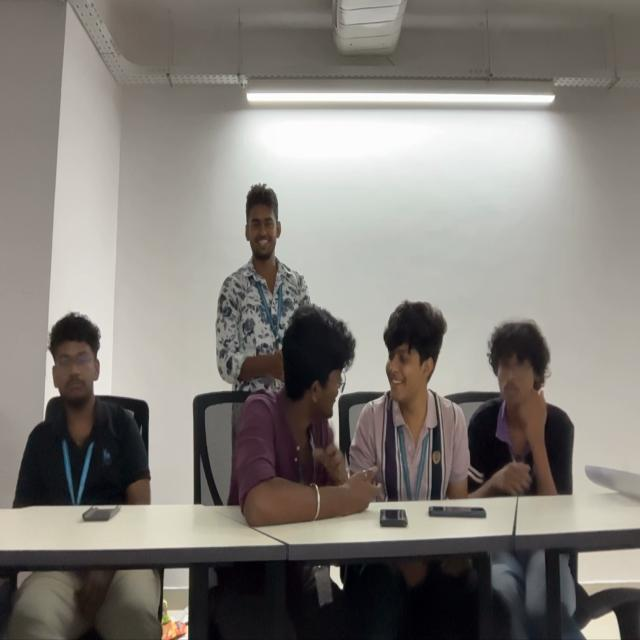Isolated: (18, 313, 150, 506)
socializing: (218, 181, 574, 504)
